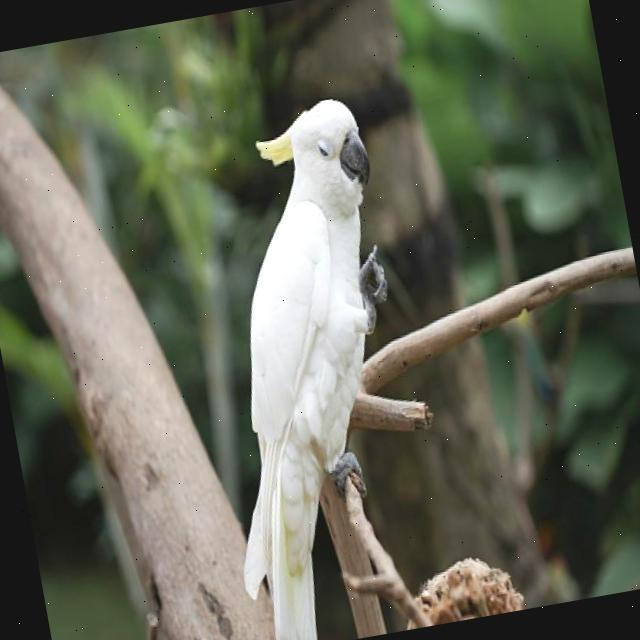Kakatua Putih: (146, 57, 484, 640)
